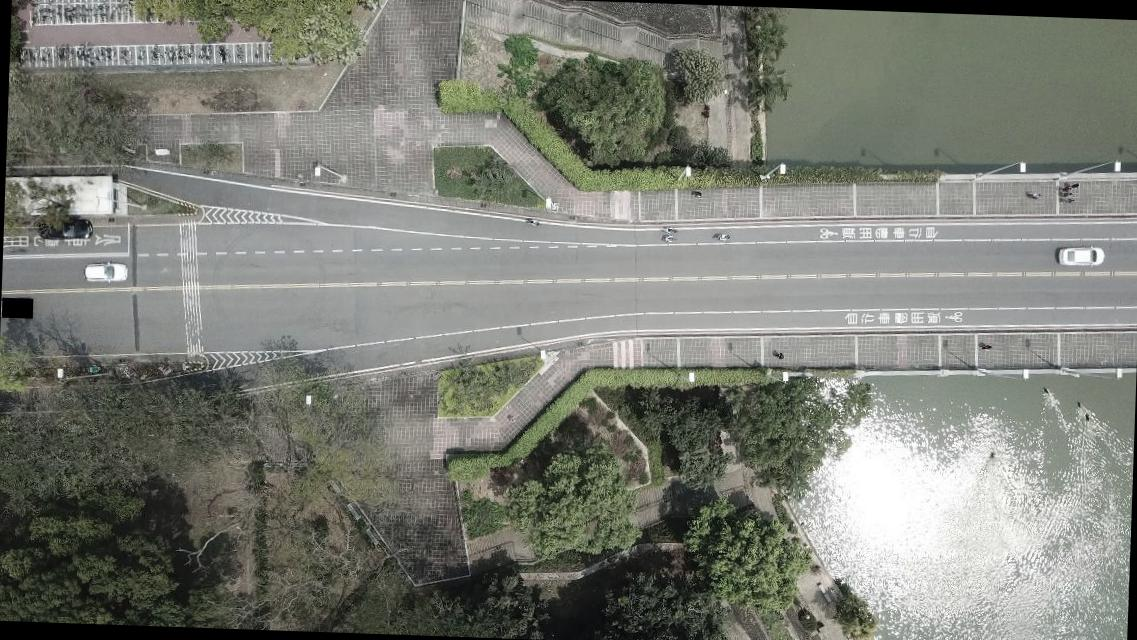vehicle: (36, 216, 93, 242), (1055, 244, 1104, 268), (82, 261, 127, 284)
